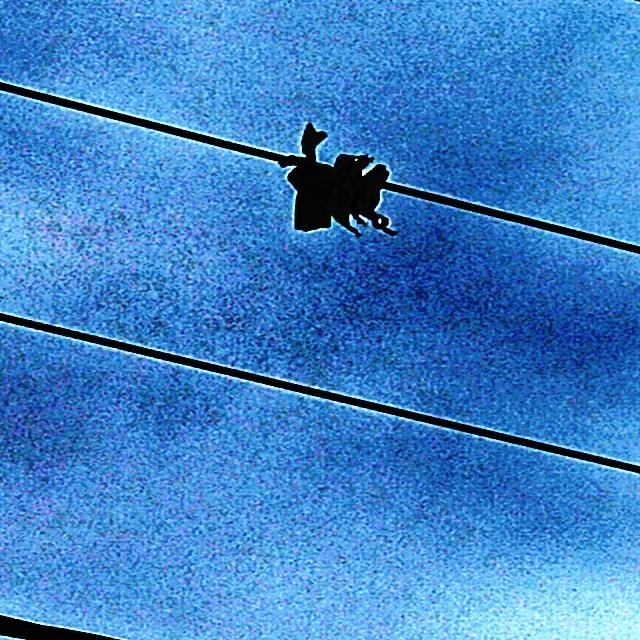obstruction: (271, 121, 415, 236)
wires: (2, 303, 639, 481), (0, 79, 278, 174), (384, 174, 639, 262), (6, 609, 125, 639)
